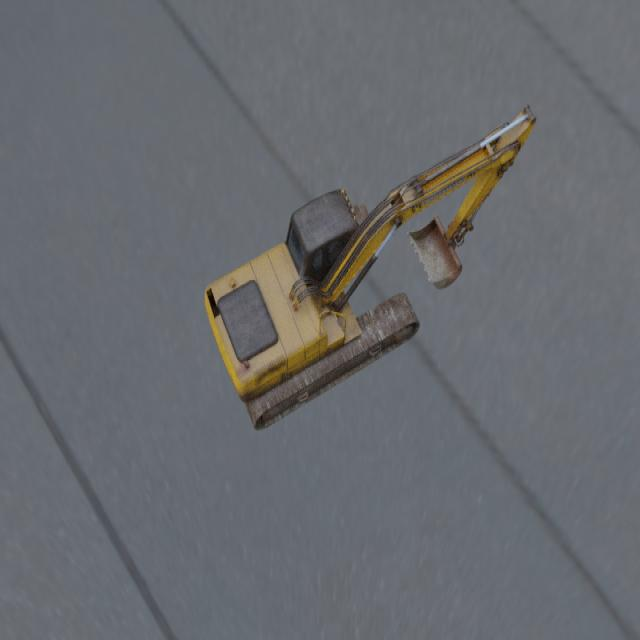excavator: (204, 102, 536, 430)
